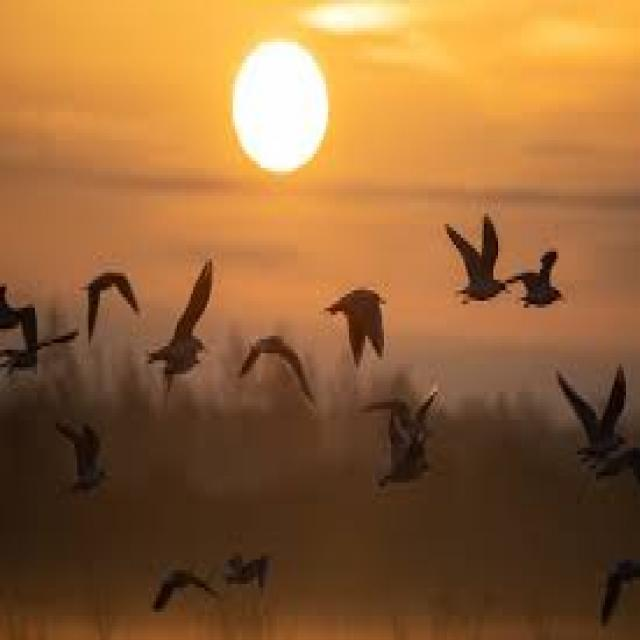bird: (137, 232, 235, 398), (236, 313, 330, 453), (423, 188, 512, 326), (0, 250, 77, 393), (366, 370, 444, 500), (48, 397, 124, 502), (498, 232, 580, 328), (552, 360, 626, 462), (75, 243, 146, 341), (322, 266, 388, 371), (140, 549, 224, 619), (221, 532, 268, 602)
